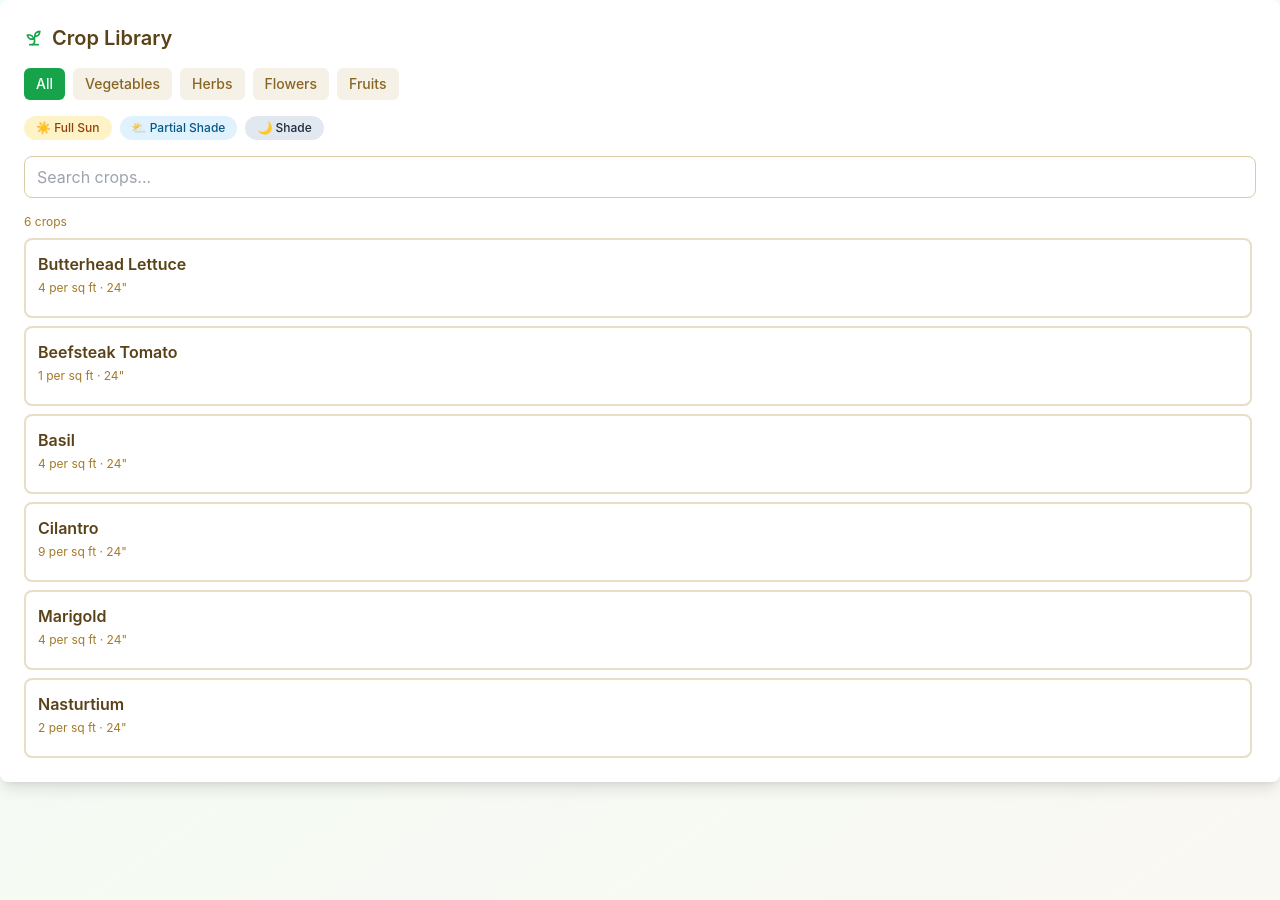
CropLibrary › Category Tabs (TODO-028) › shows only flowers when "Flowers" tab is clicked
What coordinates should you click on to do the following:
click the button "Flowers"
I would click on:
 (291, 84)
Its box is left=252, top=68, right=329, bottom=100.
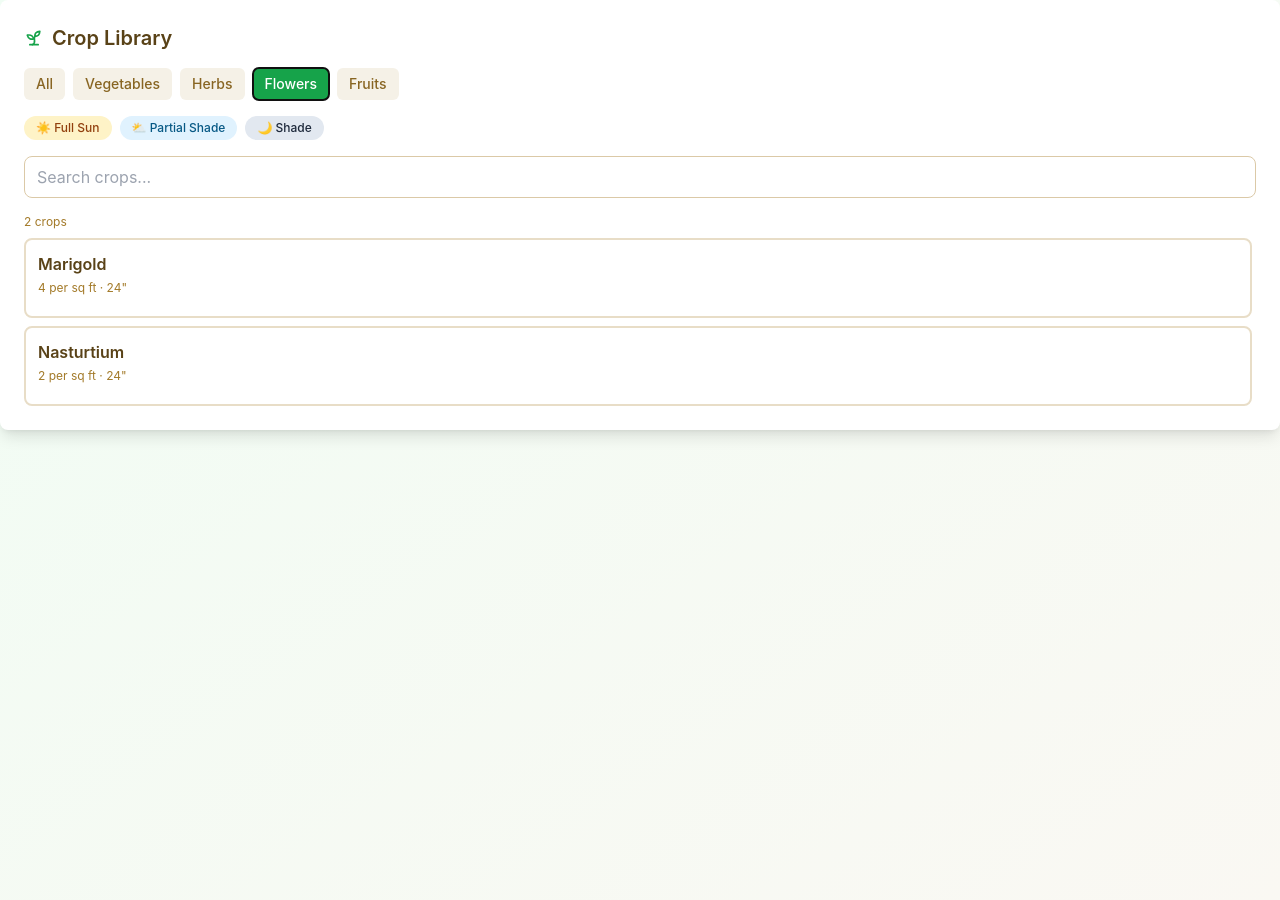
Expected: the button "Butterhead Lettuce" is gone
Expected: the button "Beefsteak Tomato" is gone
Expected: the button "Basil" is gone
